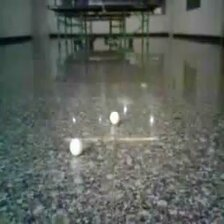w: (68, 137, 83, 156), (108, 110, 121, 124)
